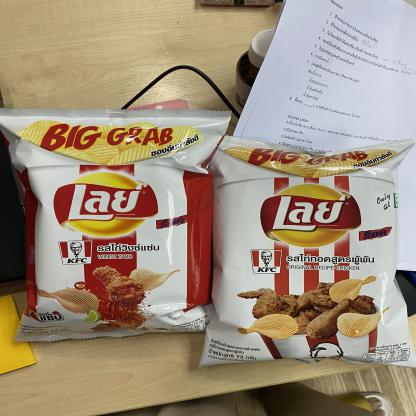potatochip: (0, 97, 238, 345), (188, 130, 416, 375)
